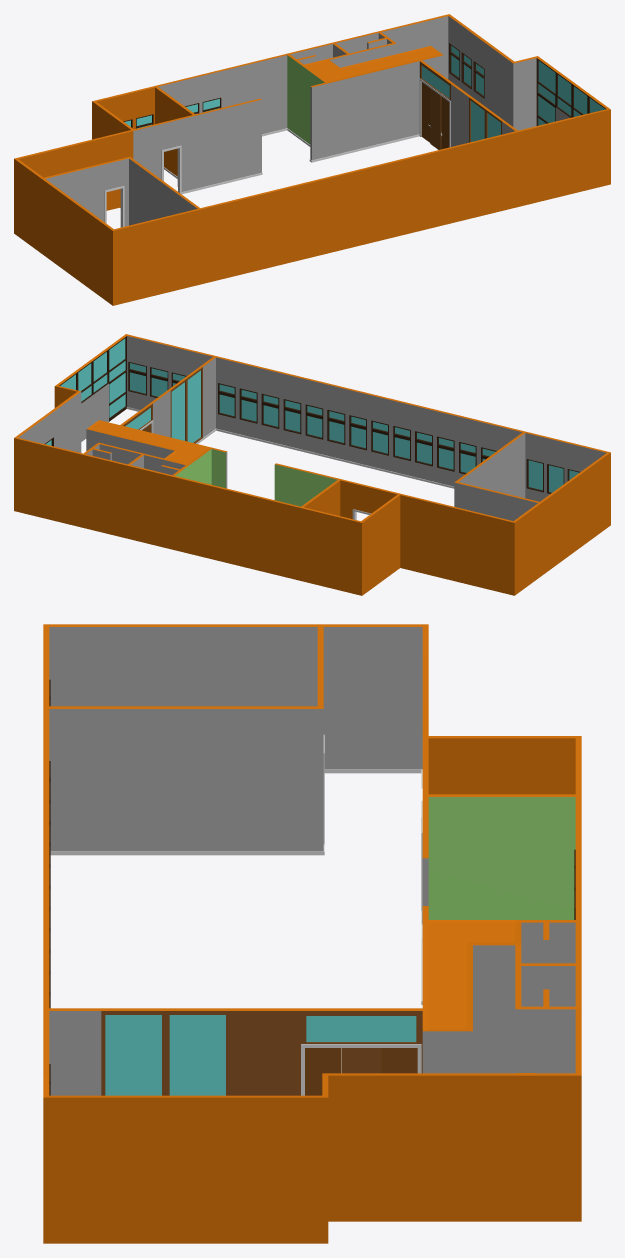
Rendered from DSHFinal.fbx.
3 renders of one model, top to bottom at view 1: azimuth 30°, elevation 25°; view 2: azimuth 150°, elevation 25°; view 3: azimuth 270°, elevation 25°, orthographic. The views are drawn at different scales.
Visible parts, largest first — view 1: Walls, DoubleDoorDivider, DubleDoorL, DubleDoorR; view 2: Walls; view 3: Walls, DubleDoorR, DoubleDoorDivider, DubleDoorL.
Part boxes in pixels (x1,y1,x2,y2): Walls: [14, 14, 610, 305]; DoubleDoorDivider: [430, 88, 441, 149]; DubleDoorL: [421, 82, 430, 142]; DubleDoorR: [441, 96, 449, 149]; Walls: [14, 334, 610, 595]; Walls: [43, 624, 581, 1243]; DubleDoorR: [305, 1048, 340, 1095]; DoubleDoorDivider: [341, 1048, 381, 1073]; DubleDoorL: [381, 1048, 417, 1073].
Bounding box in the file's own units: 2785 × 400 × 1339.
